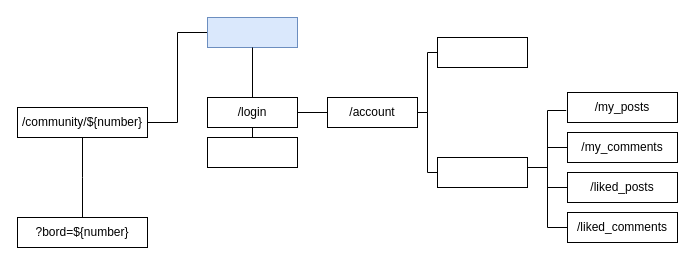
The diagram is 695 pixels wide and 265 high, and some of its shapes have lost their labels. Here are the shapes that lost their labels. From the top down, the box of each, then its label:
(206, 16, 298, 48): /main
(436, 36, 528, 68): /profile
(206, 136, 298, 168): /signup
(436, 156, 528, 188): /activity
